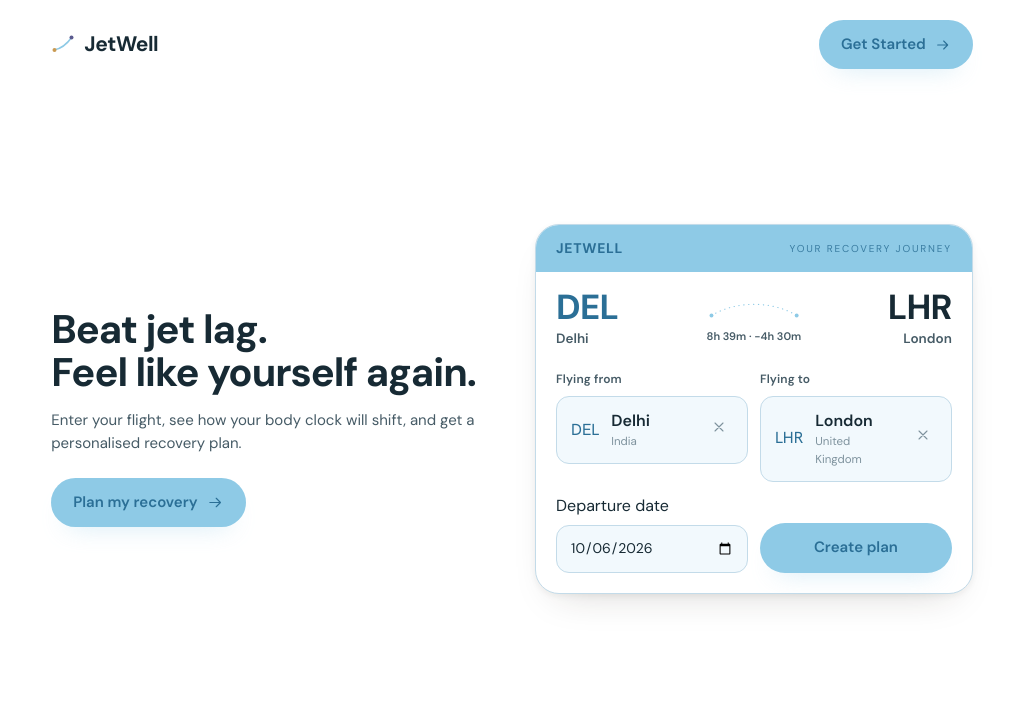
Test: app smoke tests › renders the commitments screen and adds an item
Click the button "Get Started": (896, 45) [819, 20, 973, 69]
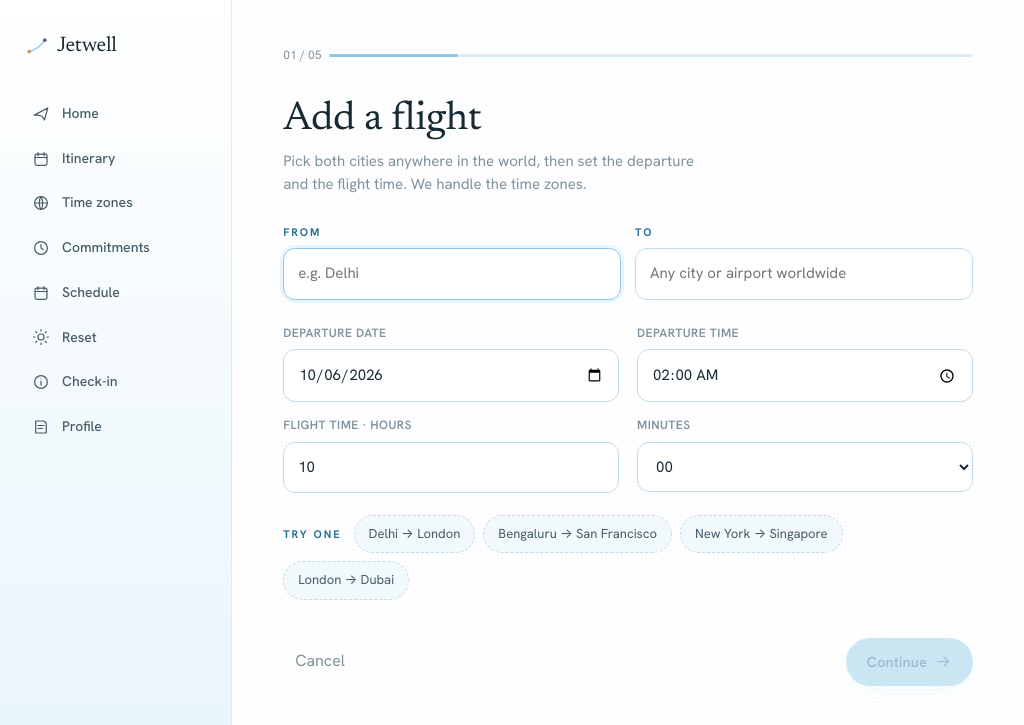
Click the button "Commitments": (116, 248) [20, 227, 211, 269]
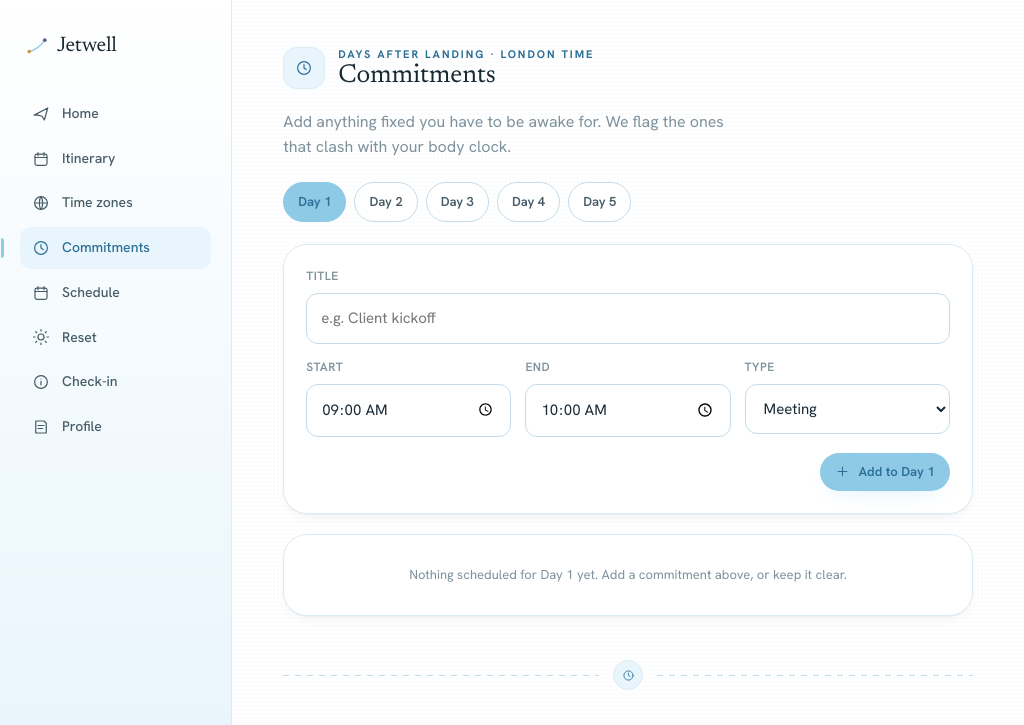
Expected: the heading "Commitments" is shown, [338, 63, 496, 89]
In the field labelled "Title": (628, 318) [306, 293, 950, 344], type "Client call"
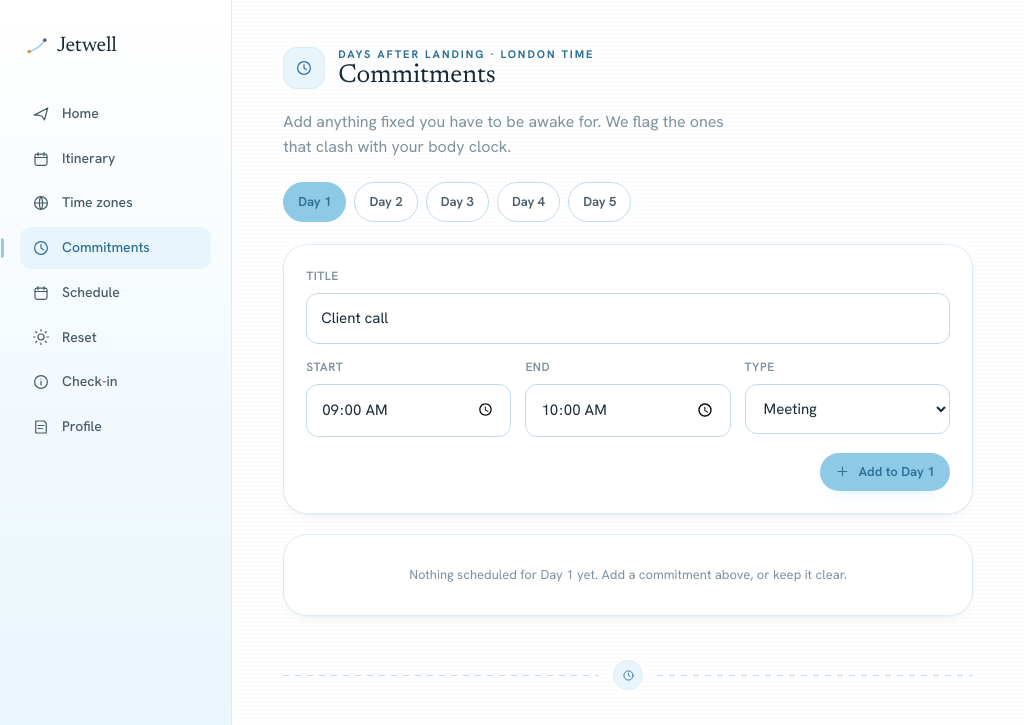
Click the button "Add to Day 1": (885, 472) [820, 453, 950, 491]
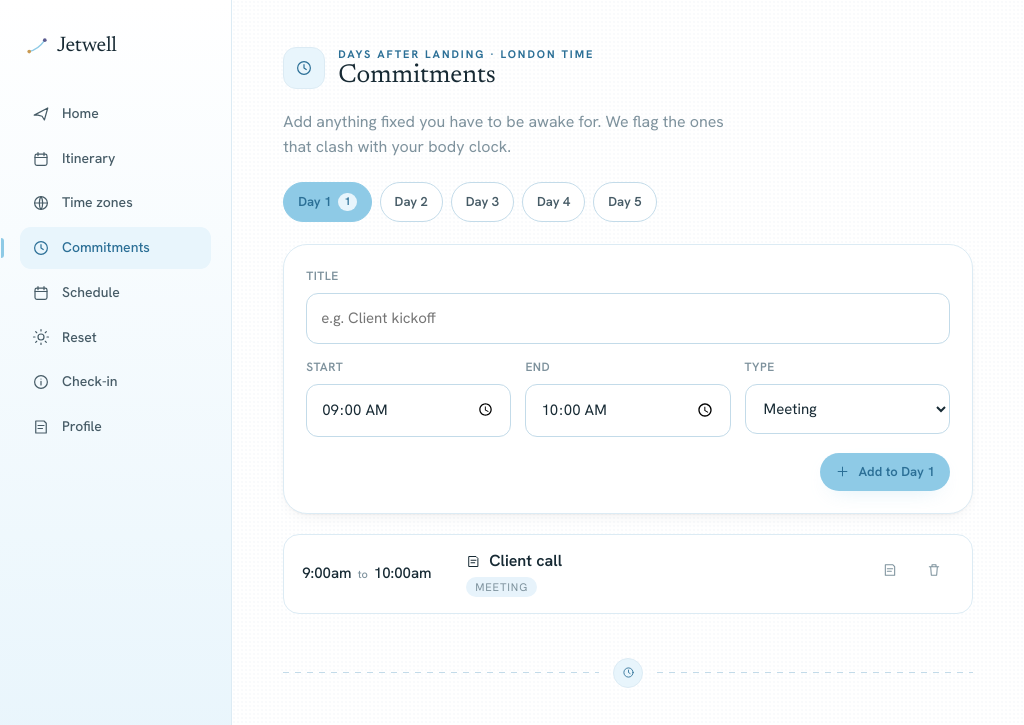
Expected: the text "Client call" is shown, [466, 550, 562, 571]
